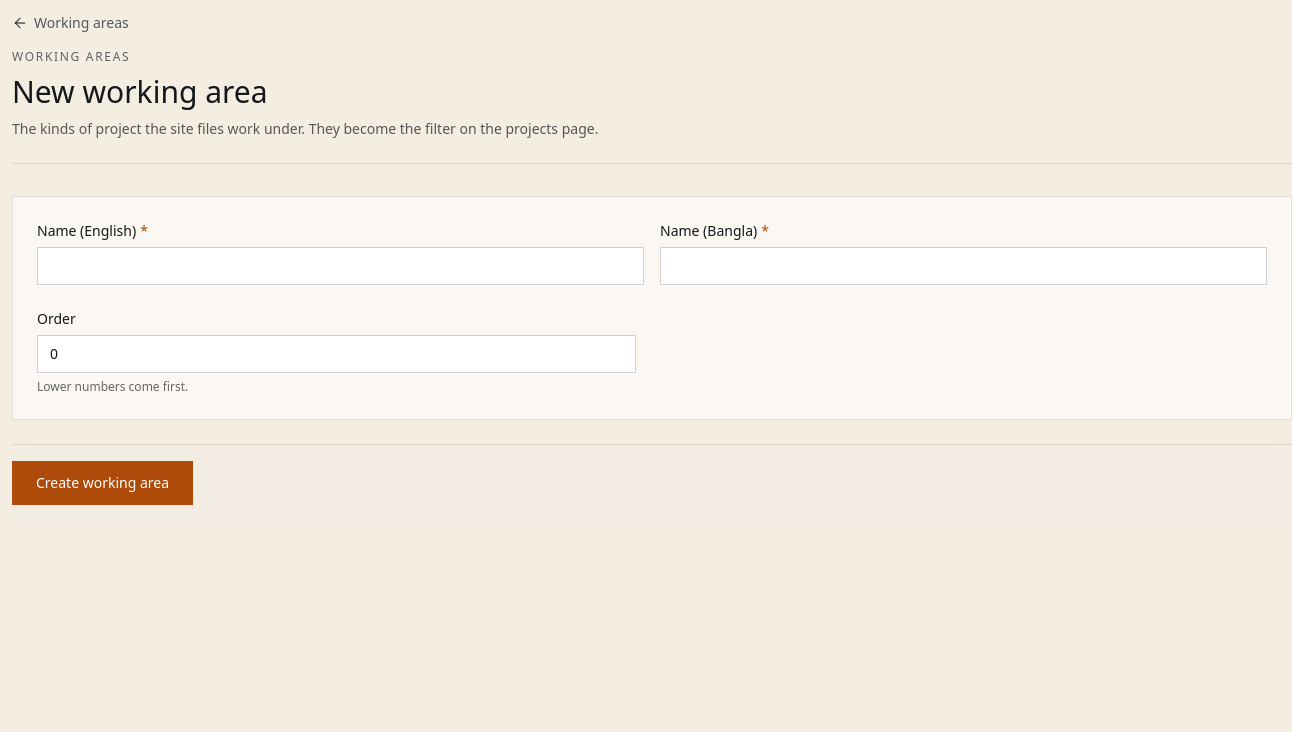
Test: ResourceForm › shows the API's own field problems next to the field
Type "A" into the field labelled "Name (English)" at coordinates (340, 266), box [37,246,644,284]
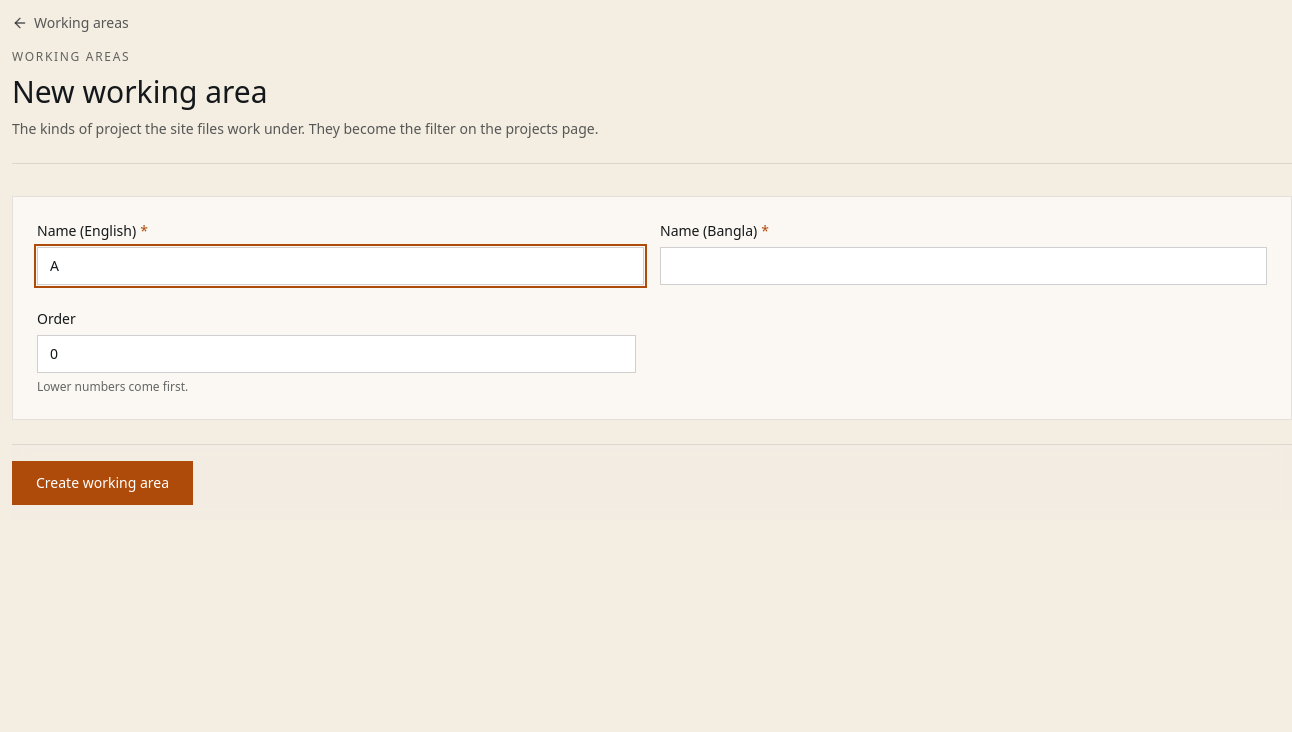
Type "ক" into the field labelled "Name (Bangla)" at coordinates (964, 266), box [660,246,1267,284]
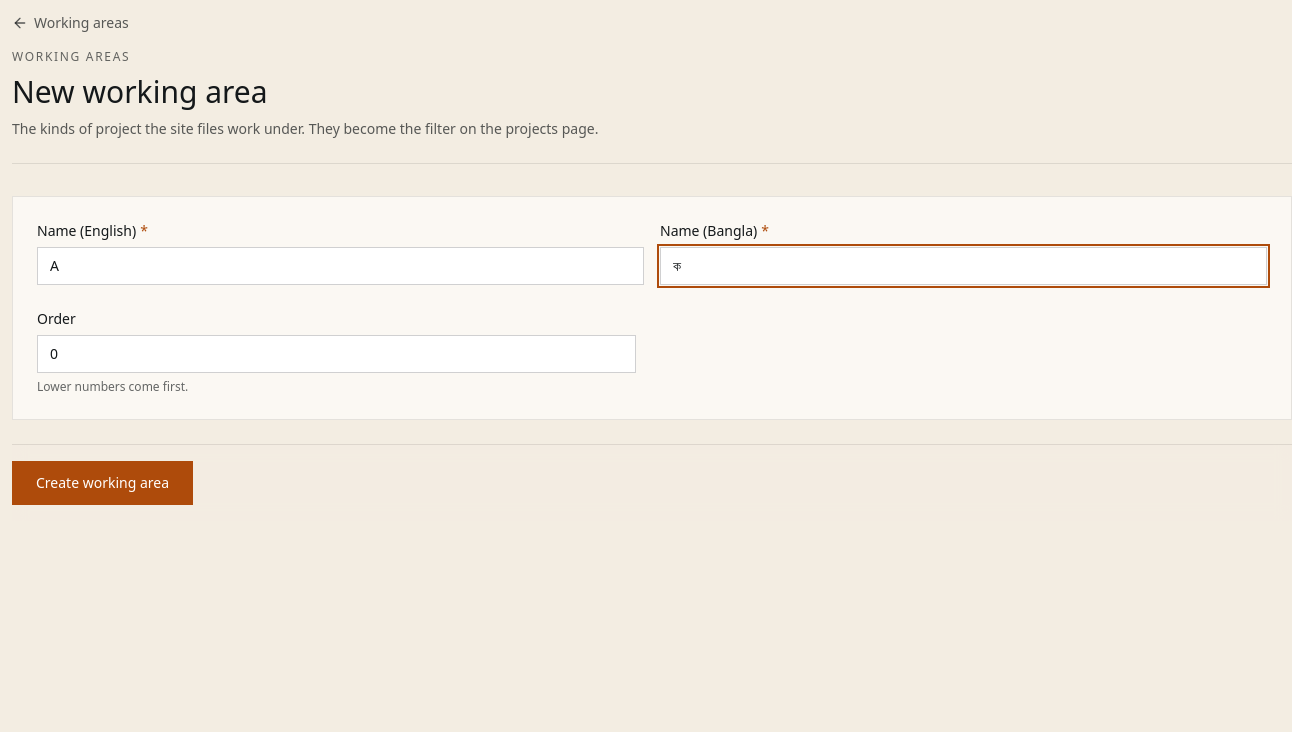
Click the button "Create working area" at coordinates (102, 482), box [12,460,193,504]
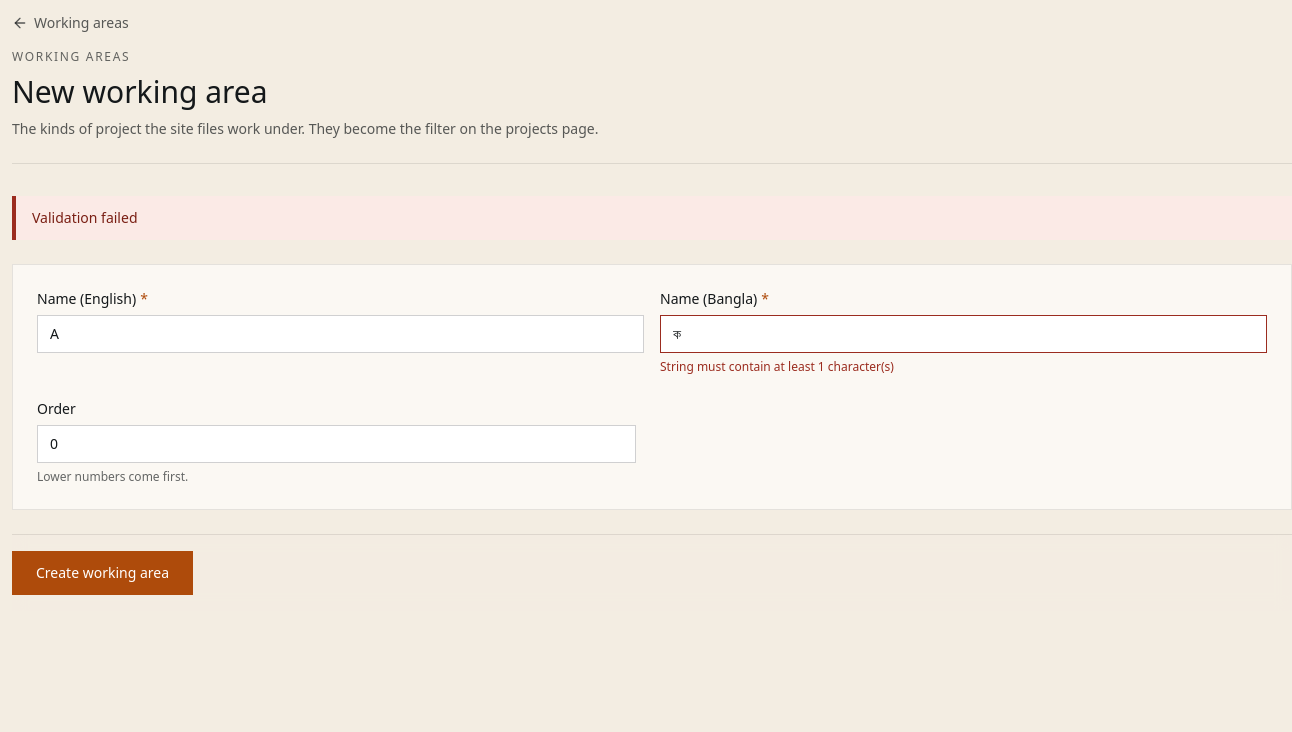
Result: the text "String must contain at least 1 character(s)" is shown at [660,358,894,374]
